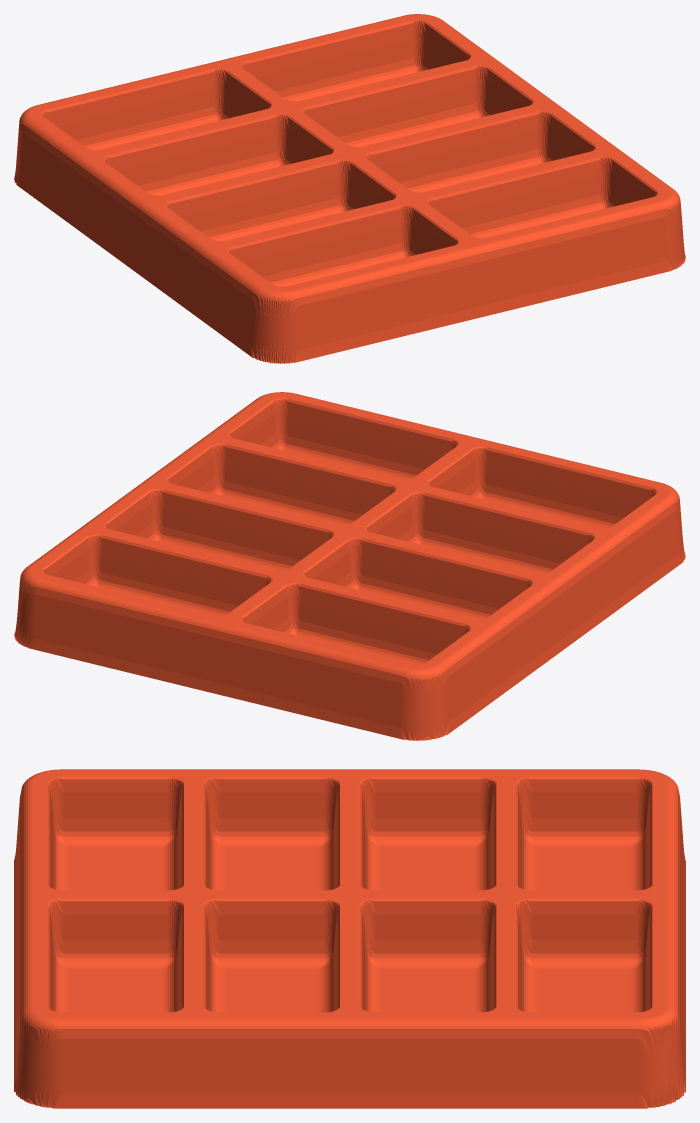
File: mold.glb
3 renders of one model, top to bottom at view 1: azimuth 30°, elevation 25°; view 2: azimuth 150°, elevation 25°; view 3: azimuth 270°, elevation 25°, orthographic. The views are drawn at different scales.
Visible parts, largest first — view 1: geometry_0; view 2: geometry_0; view 3: geometry_0.
Boxes of the visible parts, x1,y1,x2,y2 form: geometry_0: [14, 14, 685, 363]; geometry_0: [14, 392, 685, 740]; geometry_0: [14, 769, 685, 1108].
Bounding box in the file's own units: 0.1209 × 0.0175 × 0.1301.
